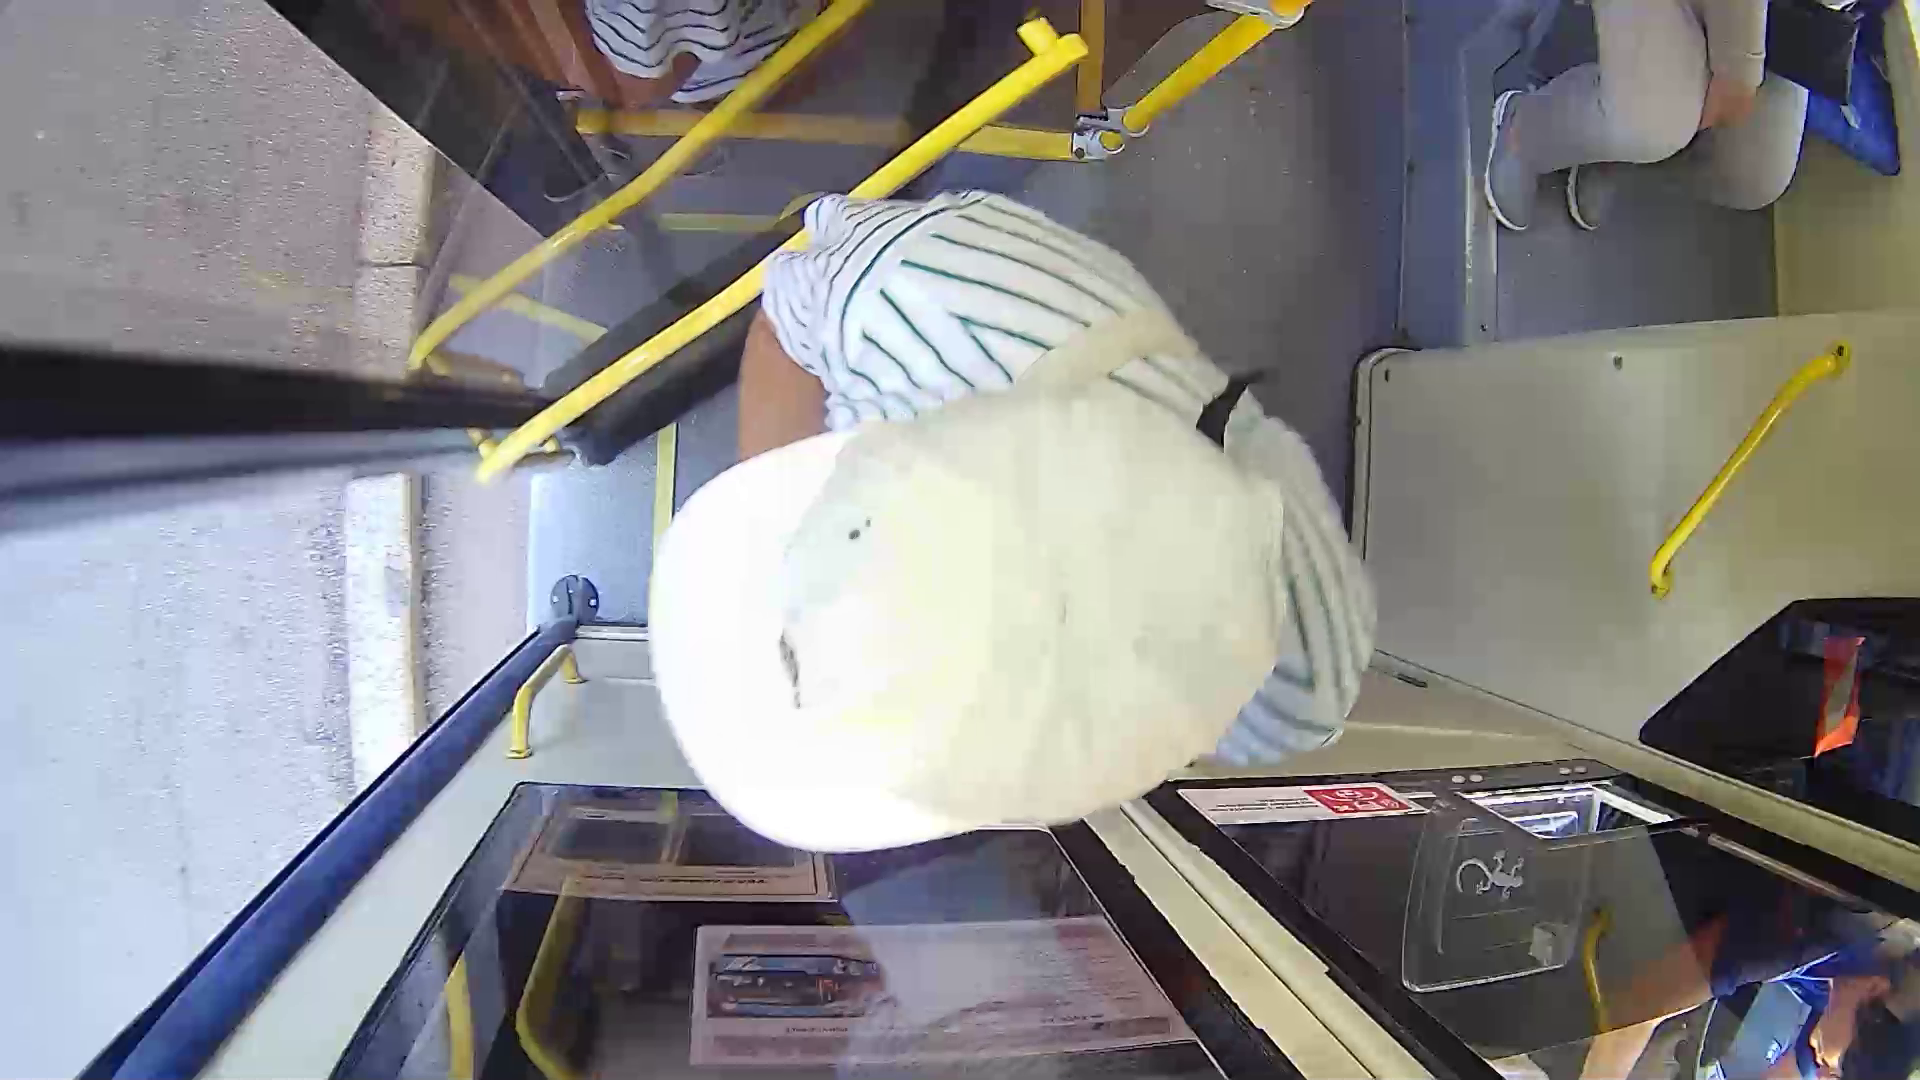person: (597, 185, 1446, 870)
